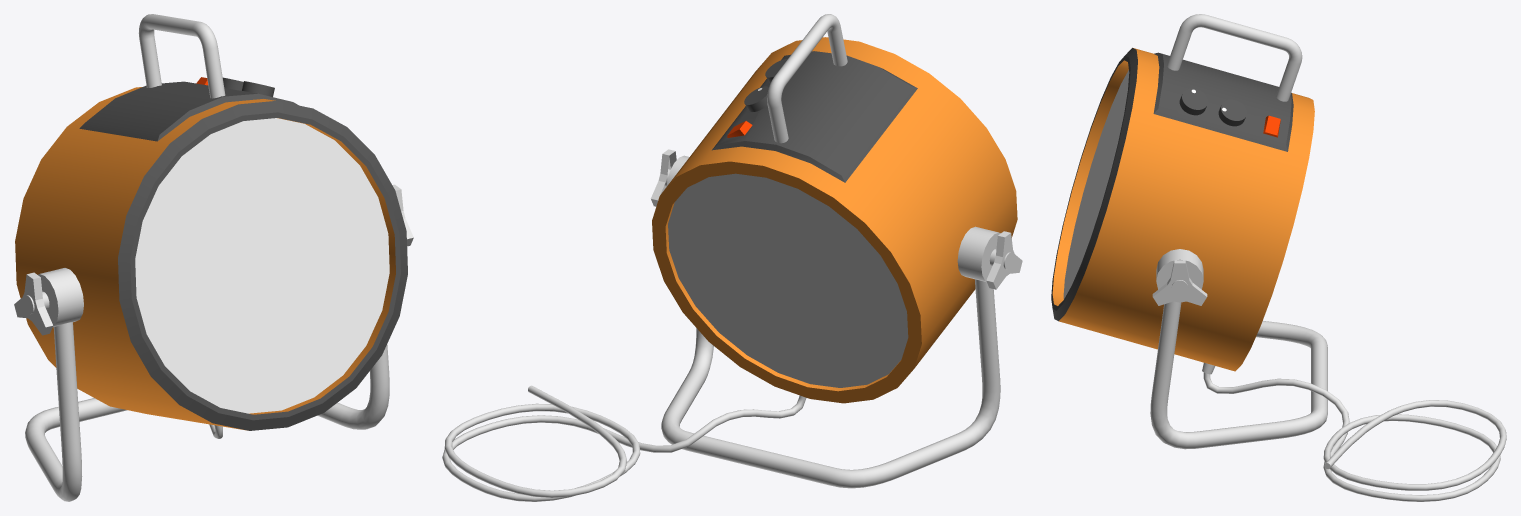
The model's file is Heater.fbx.
3 views of the same model, side by side, from view 1: azimuth 30°, elevation 25°; view 2: azimuth 150°, elevation 25°; view 3: azimuth 270°, elevation 25° (orthographic). The views are drawn at different scales.
Parts seen in each view (by area): view 1: Group_001, Group_009, Group_005, Group_008, Group_013, Group_012; view 2: Group_001, Group_004, Group_005, Group_009, Group_016, Group_008, Group_013, Group_012; view 3: Group_001, Group_009, Group_016, Group_005, Group_008, Group_015, Group_014, Group_006, Group_007.
Boxes of the visible parts, bbox=[...] form: Group_001: bbox=[15, 87, 407, 430]; Group_009: bbox=[25, 322, 389, 501]; Group_005: bbox=[79, 77, 298, 141]; Group_008: bbox=[138, 14, 225, 98]; Group_013: bbox=[23, 268, 83, 326]; Group_012: bbox=[14, 272, 53, 335]; Group_001: bbox=[652, 37, 1017, 403]; Group_004: bbox=[668, 173, 908, 387]; Group_005: bbox=[712, 51, 917, 182]; Group_009: bbox=[661, 279, 1000, 488]; Group_016: bbox=[442, 385, 806, 501]; Group_008: bbox=[767, 14, 847, 143]; Group_013: bbox=[957, 226, 1013, 281]; Group_012: bbox=[986, 231, 1022, 289]; Group_001: bbox=[1051, 47, 1314, 371]; Group_009: bbox=[1150, 301, 1327, 449]; Group_016: bbox=[1203, 372, 1506, 501]; Group_005: bbox=[1153, 52, 1293, 151]; Group_008: bbox=[1167, 14, 1302, 101]; Group_015: bbox=[1156, 249, 1203, 302]; Group_014: bbox=[1152, 260, 1207, 305]; Group_006: bbox=[1179, 88, 1207, 115]; Group_007: bbox=[1218, 99, 1246, 126].
Size of the model in its own units: 479 by 434 by 480.
